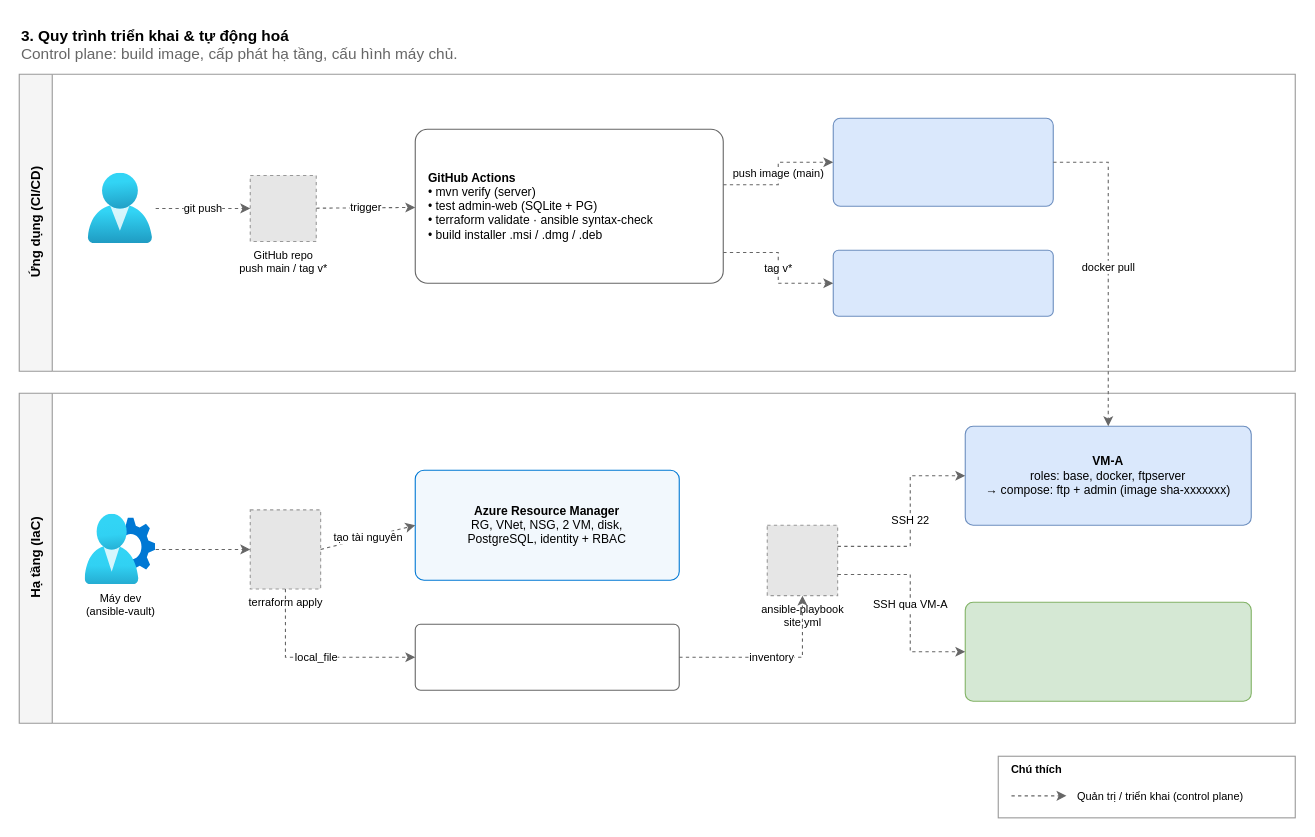
The diagram is 1315 pixels wide and 837 high, and some of its shapes have lost their labels. Grey dashed boxes stand in for pictures. The centre of each missing label's shape, as x and y in pixels:
"ansible/inventory/hosts.ini (IP, mật khẩu DB, id disk)" belongs at [546,656].
"GHCR ftpserver, ftpadmin :sha-xxxxxxx · :latest" belongs at [942,161].
"GitHub Release installer (chỉ tag v*)" belongs at [942,282].
"Lập trình viên" belongs at [120,208].
"VM-B roles: base, docker, storage → SeaweedFS + clamd + cron snapshot" belongs at [1107,651].
